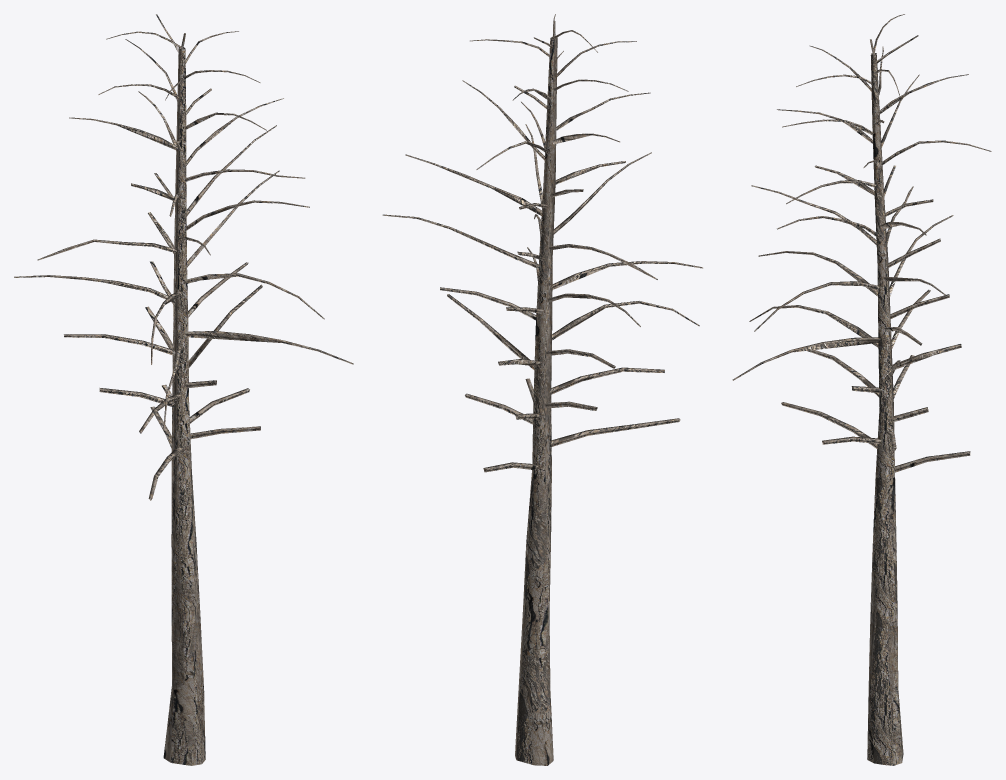
File: DeadStandingPine01.DAE
The picture shows the model from 3 angles, left to right: view 1: azimuth 30°, elevation 25°; view 2: azimuth 150°, elevation 25°; view 3: azimuth 270°, elevation 25°; orthographic projection. The views are drawn at different scales.
Visible parts, largest first — view 1: DeadStanding512, DeadStanding256; view 2: DeadStanding512, DeadStanding256; view 3: DeadStanding512, DeadStanding256.
Boxes of the visible parts, x1,y1,x2,y2 form: DeadStanding512: [14, 14, 353, 765]; DeadStanding256: [41, 48, 282, 765]; DeadStanding512: [382, 14, 702, 765]; DeadStanding256: [437, 38, 677, 765]; DeadStanding512: [732, 14, 991, 765]; DeadStanding256: [793, 38, 958, 762].
Size of what is drawn, in the model's own units: 153 by 135 by 410.
